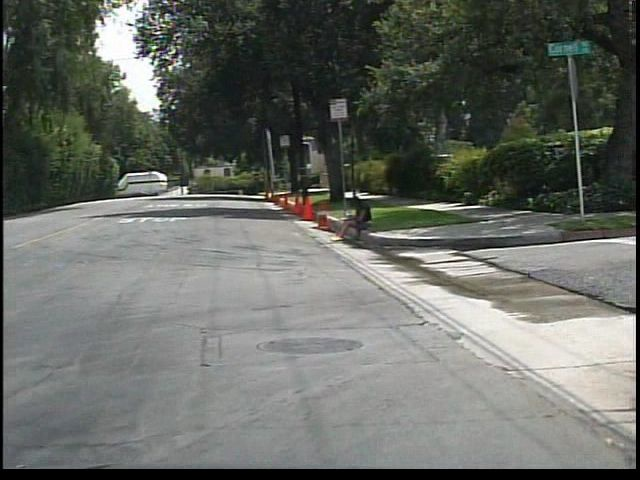person: (330, 193, 383, 246)
